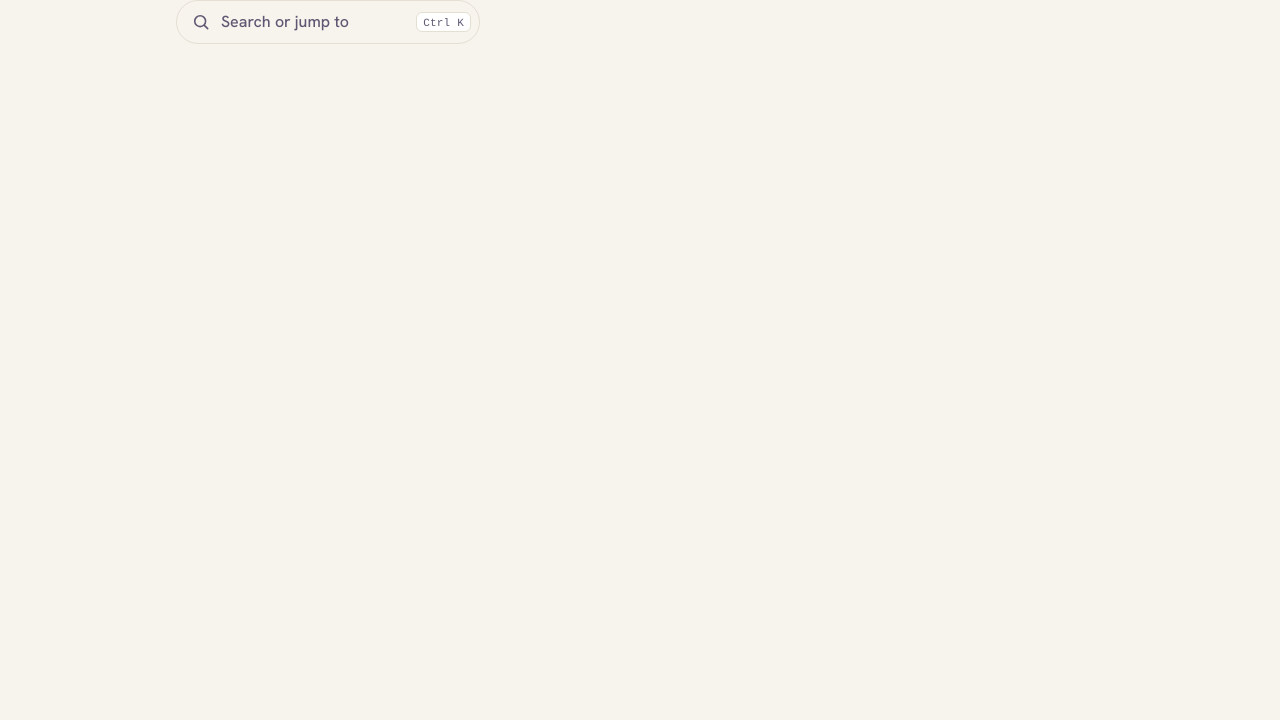
Test case: CommandPalette › adds the API's groups after a pause in typing, the typed letters marked
Press k
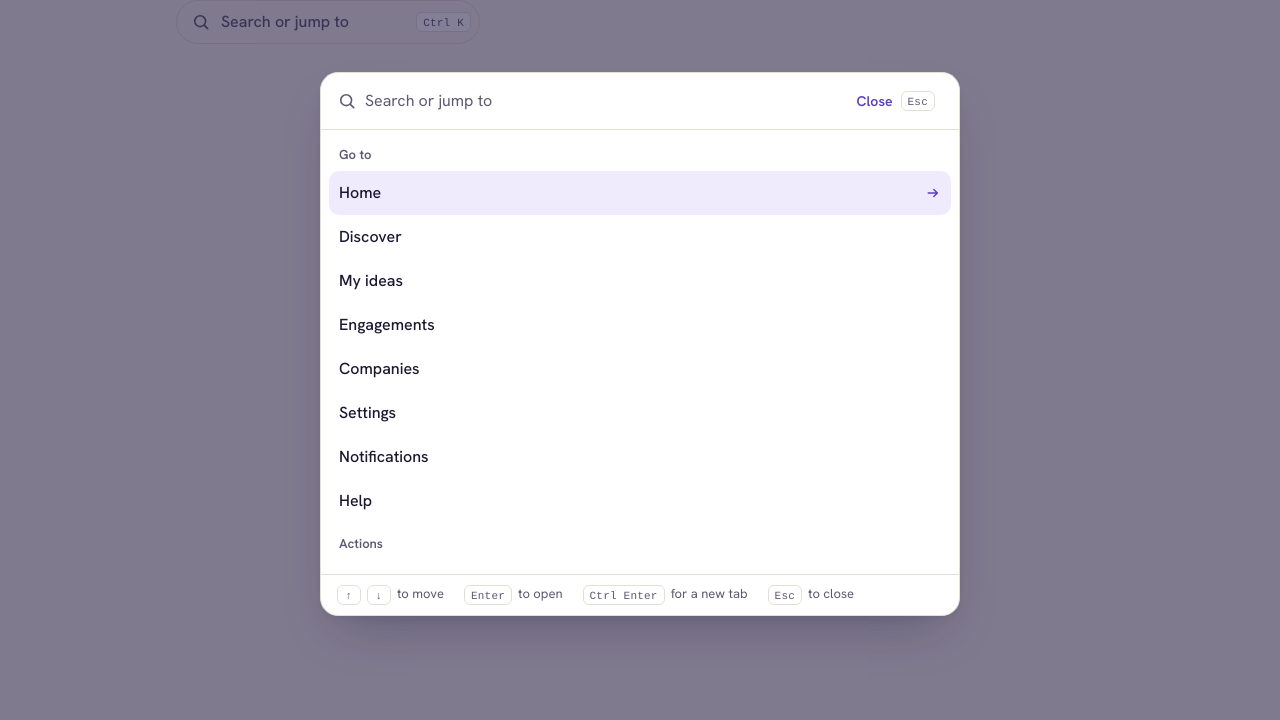
In the dropdown: (603, 101) [365, 73, 841, 129], type "sacco"
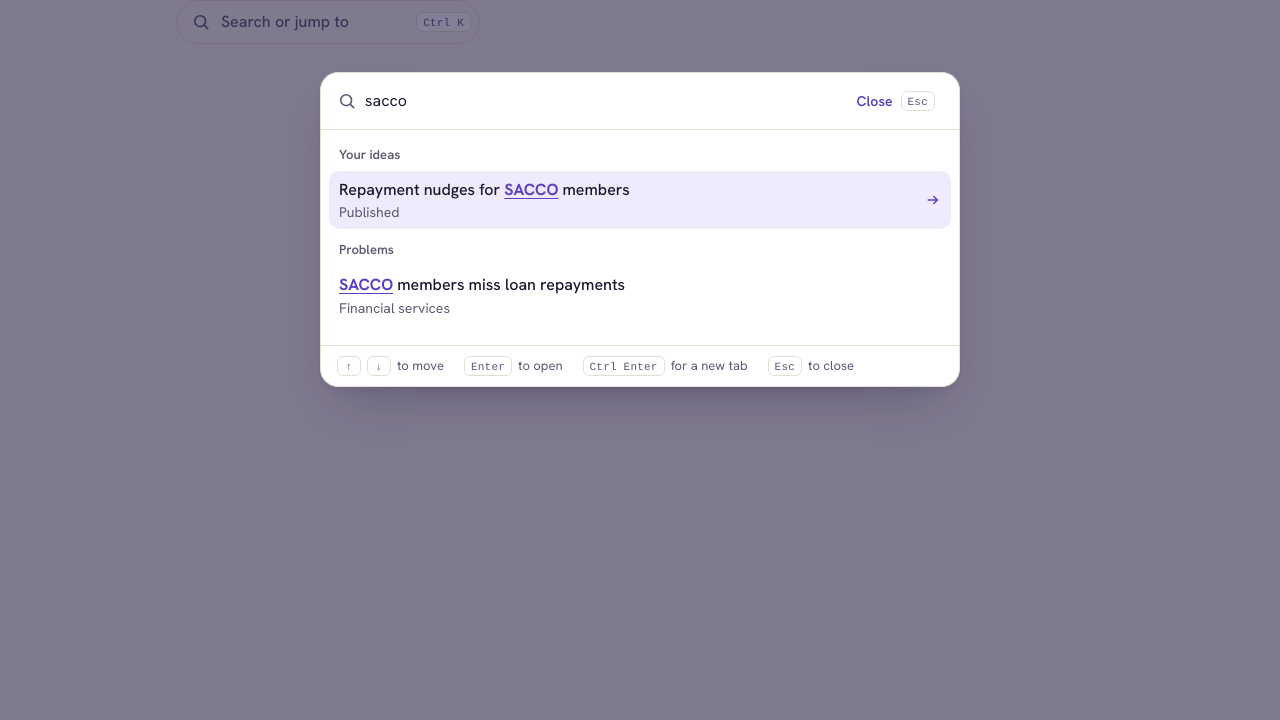
Expected: the option "Repayment nudges for SACCO members Published" is shown, [329, 171, 951, 229]
Expected: the text "SACCO" next to "Repayment nudges for" is shown, [504, 179, 558, 200]
Expected: the element "Problems" is shown, [339, 241, 625, 317]
